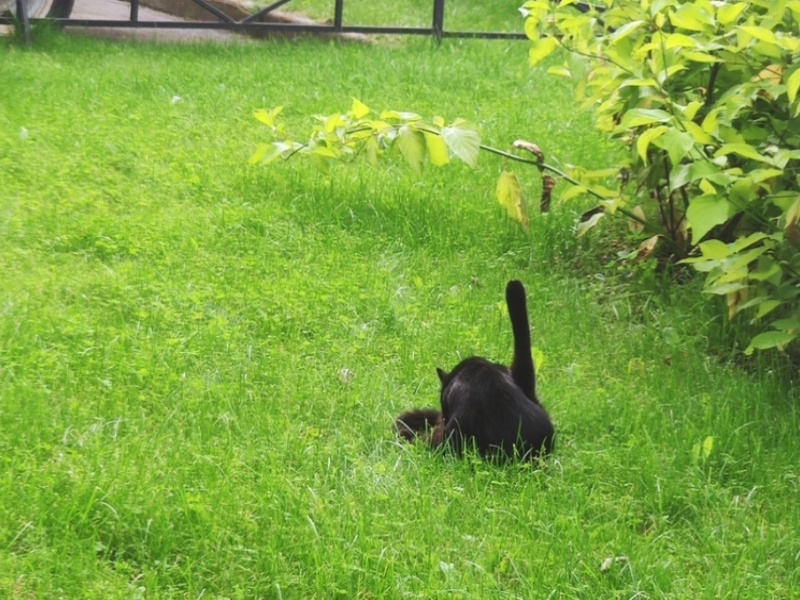cat: (395, 280, 557, 462)
